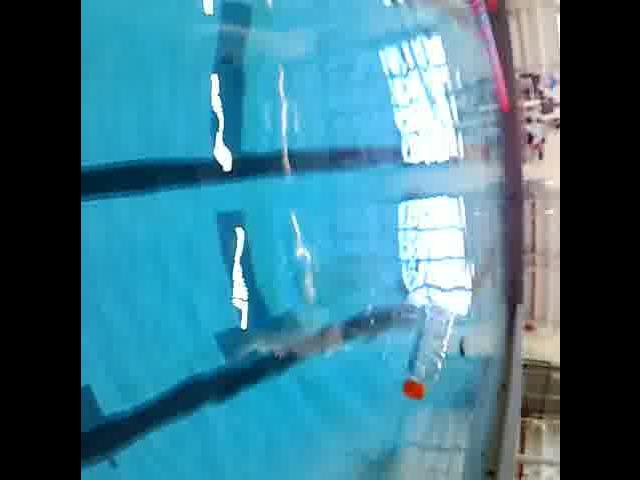Bottle: (399, 298, 457, 408)
